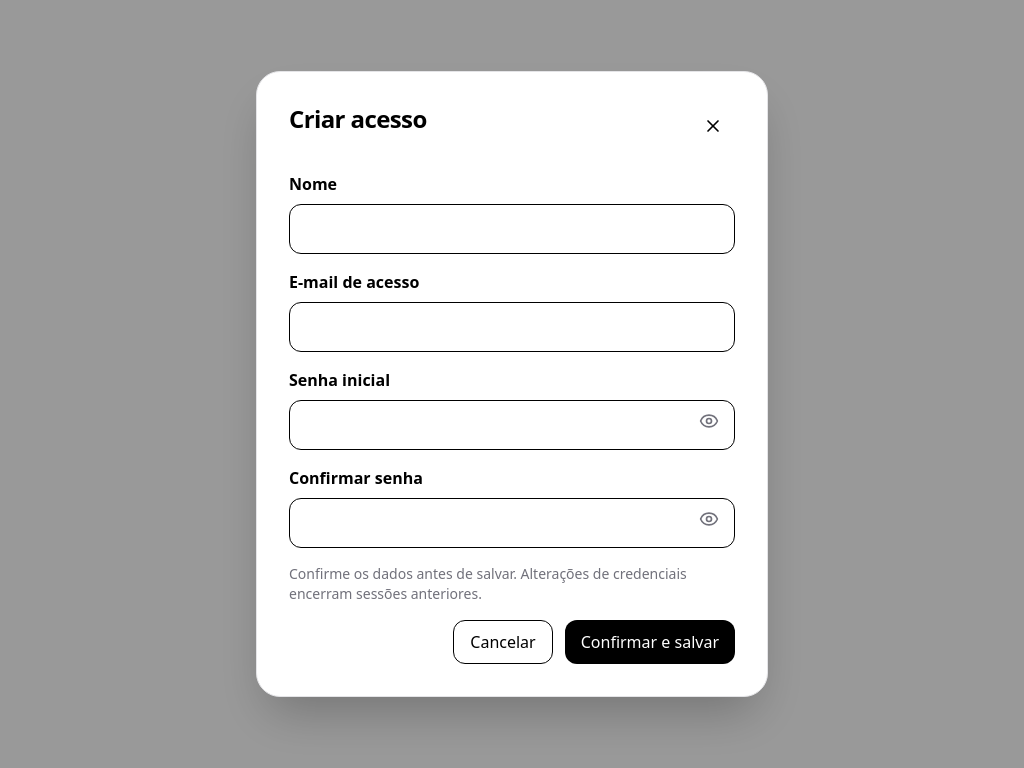
it: creation dialog presents a safe distinct error for {"code":"functions/invalid-argument","details":{"reason":"invalid-password"}}
Type "Admin Test" into the field labelled "Nome" at [512, 229], box [289,204,735,254]
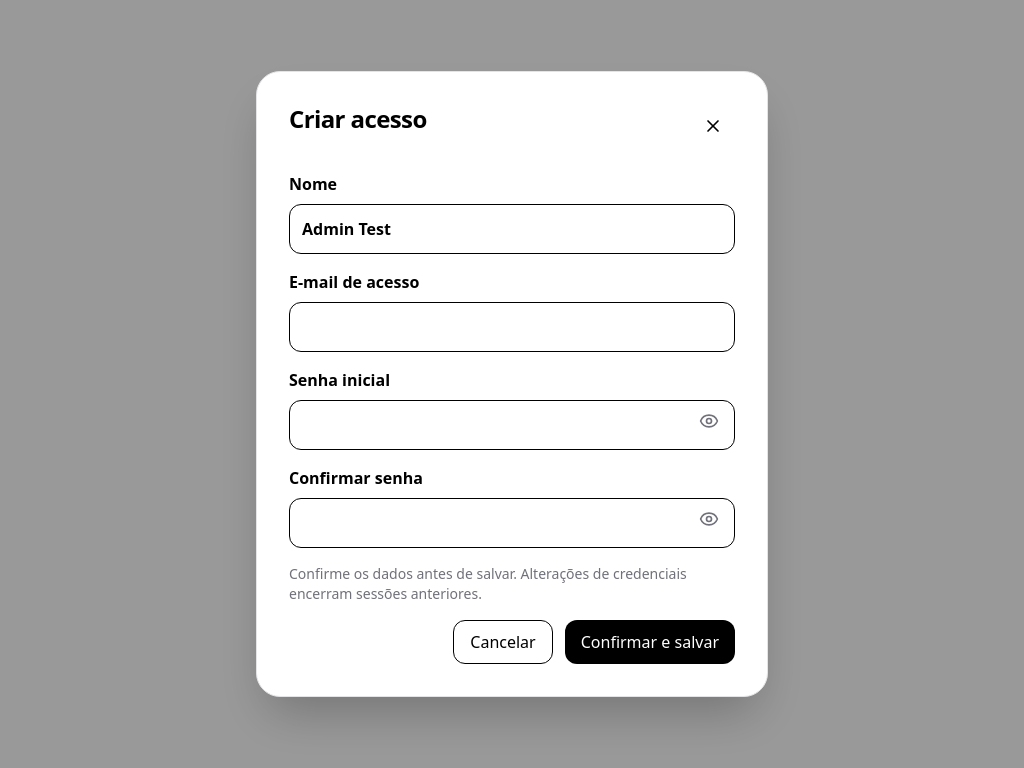
Type "admin@example.test" into the field labelled "E-mail de acesso" at [512, 327], box [289,302,735,352]
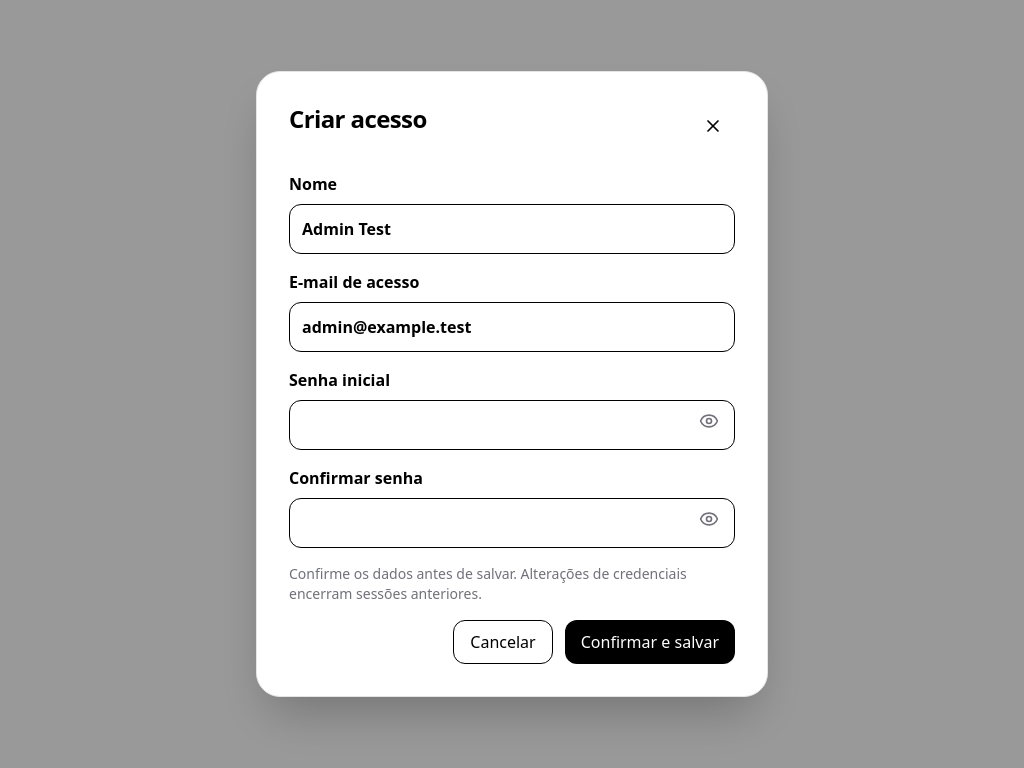
Type "example-only-123" into the password field labelled "Senha inicial" at [512, 425], box [289,400,735,450]
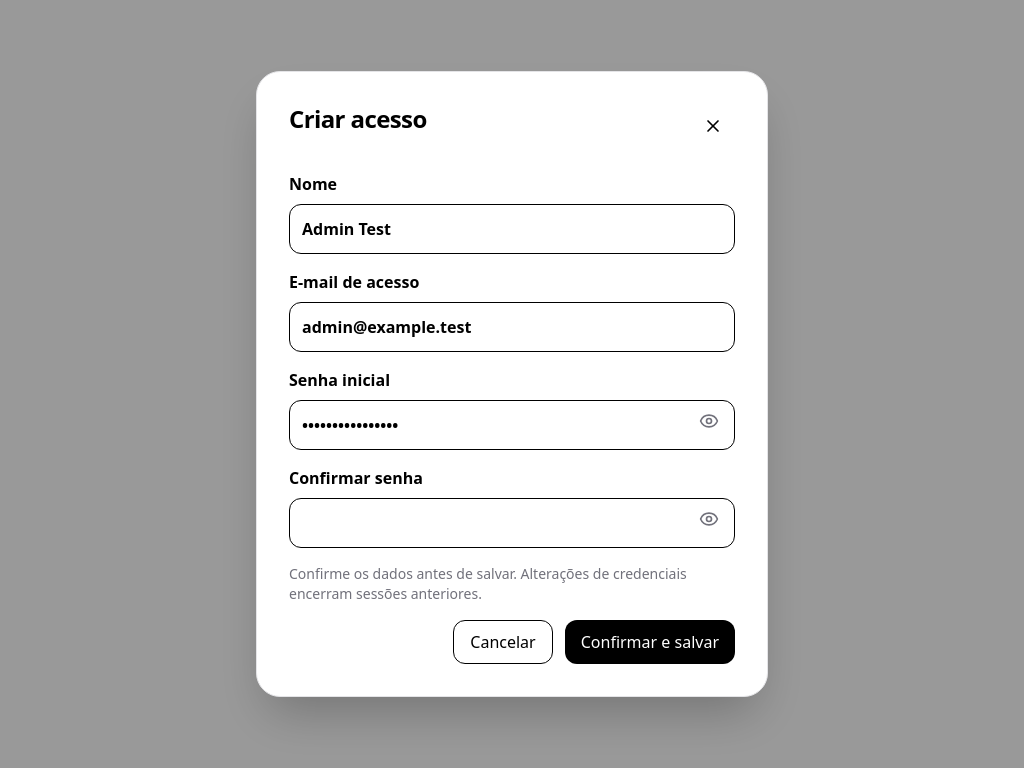
Type "example-only-123" into the password field labelled "Confirmar senha" at [512, 523], box [289,498,735,548]
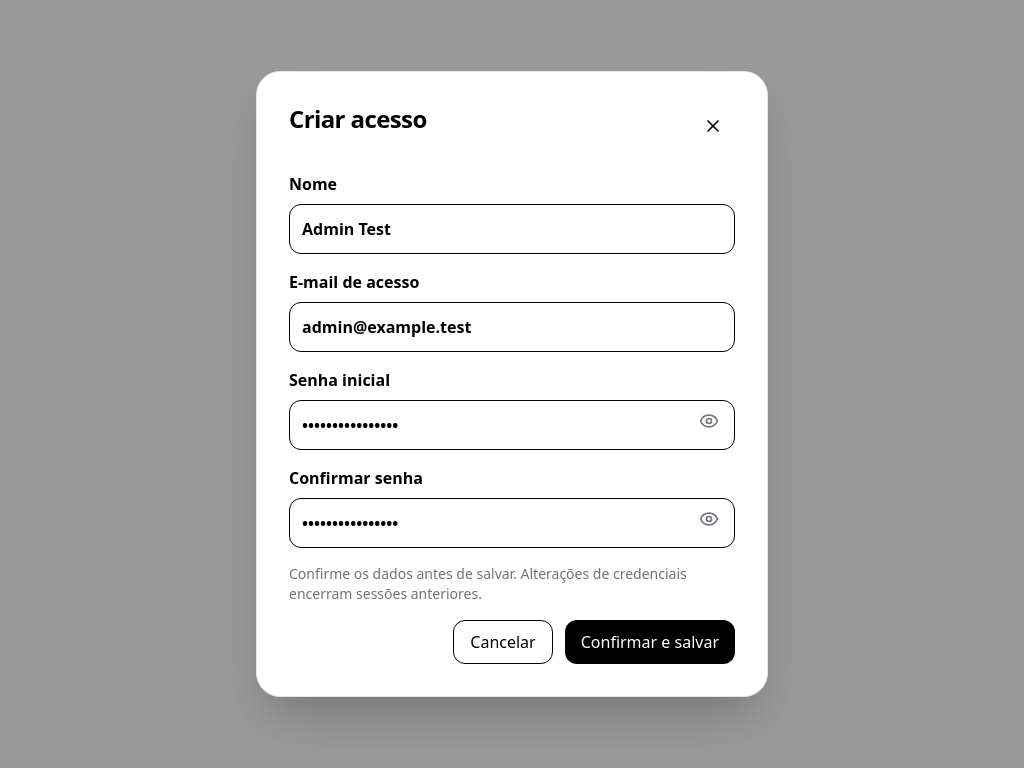
Click the button "Confirmar e salvar" at [650, 642], box [565,620,735,664]
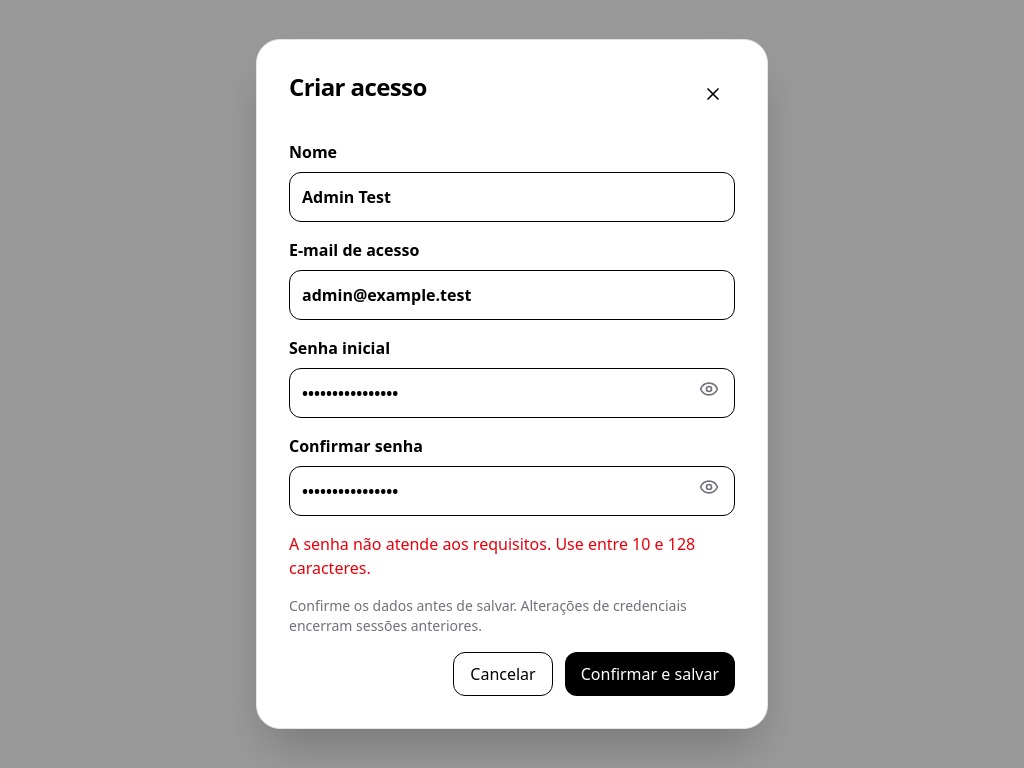
Now the message reads "A senha não atende aos requisitos. Use entre 10 e 128 caracteres.", box [289,533,695,579]
